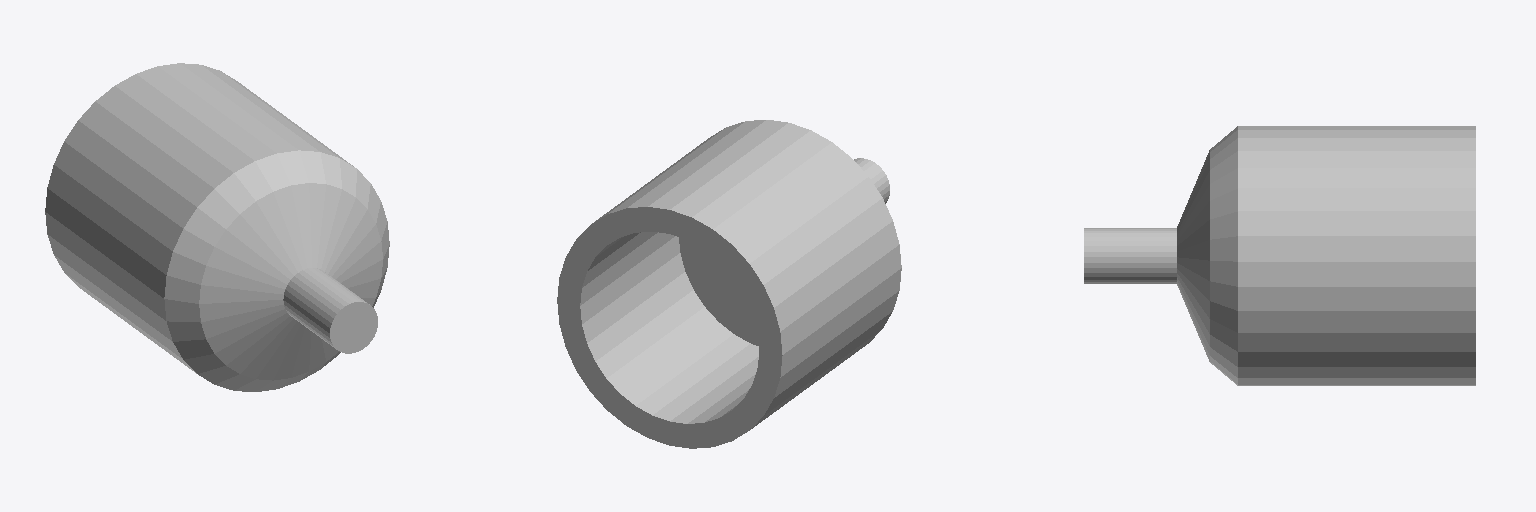
The model's file is LED_Lamp_Socket.obj.
3 views of the same model, side by side, from view 1: azimuth 30°, elevation 25°; view 2: azimuth 150°, elevation 25°; view 3: azimuth 270°, elevation 25° (orthographic).
Visible parts, largest first — view 1: Cylinder.001_Cylinder.002; view 2: Cylinder.001_Cylinder.002; view 3: Cylinder.001_Cylinder.002.
Boxes of the visible parts, box(x1,y1,x2,y2) form: Cylinder.001_Cylinder.002: box(45, 63, 389, 391); Cylinder.001_Cylinder.002: box(557, 120, 901, 448); Cylinder.001_Cylinder.002: box(1084, 126, 1475, 385).
Size of the model in its own units: 1.35 by 1.35 by 2.03.